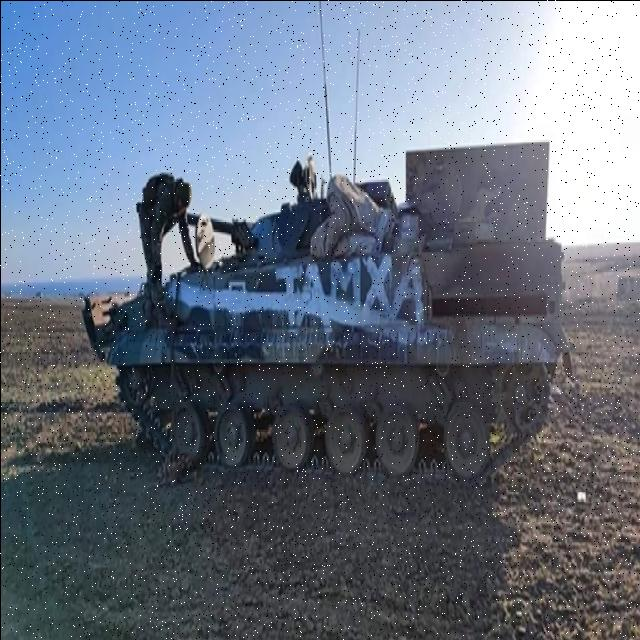APC-IFV: (94, 128, 562, 484)
